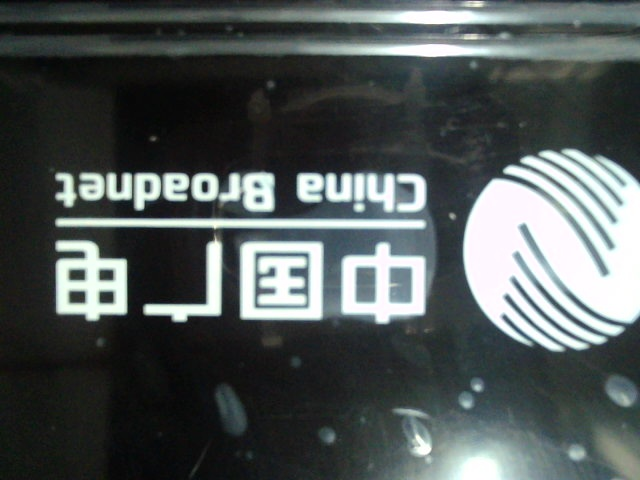AW_ChinaBroadNet: (36, 143, 637, 365)
